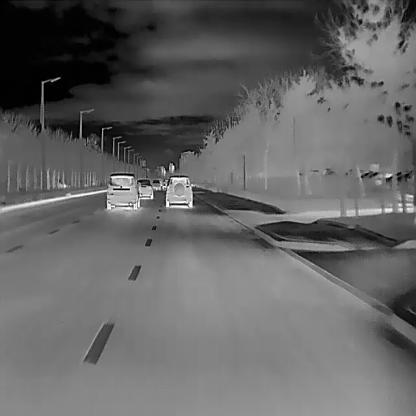car: (106, 172, 140, 210), (165, 175, 193, 208), (137, 178, 153, 199), (151, 179, 160, 190), (162, 177, 168, 190)
